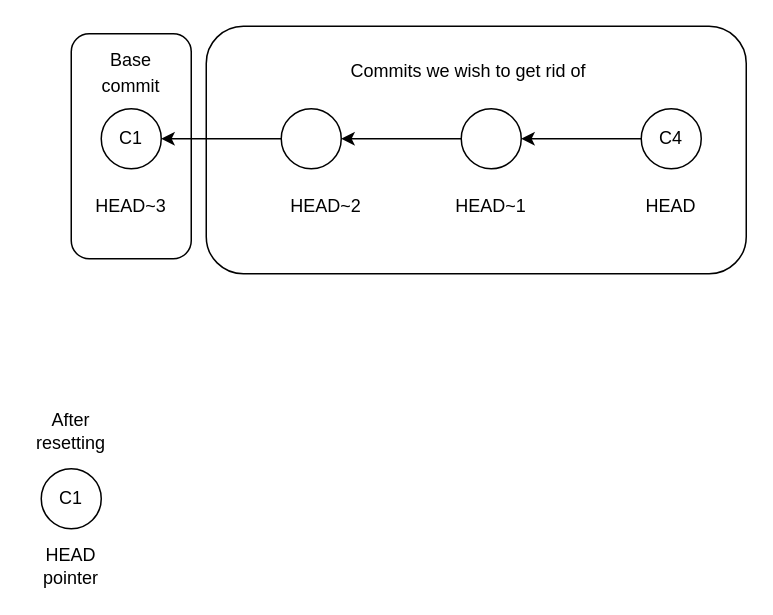
The diagram is 773 pixels wide and 615 high, and some of its shapes have lost their labels. Here are the shapes that lost their labels. From the top down, the centre of each, then its label:
At (310,138): "C2".
At (490,138): "C3".
